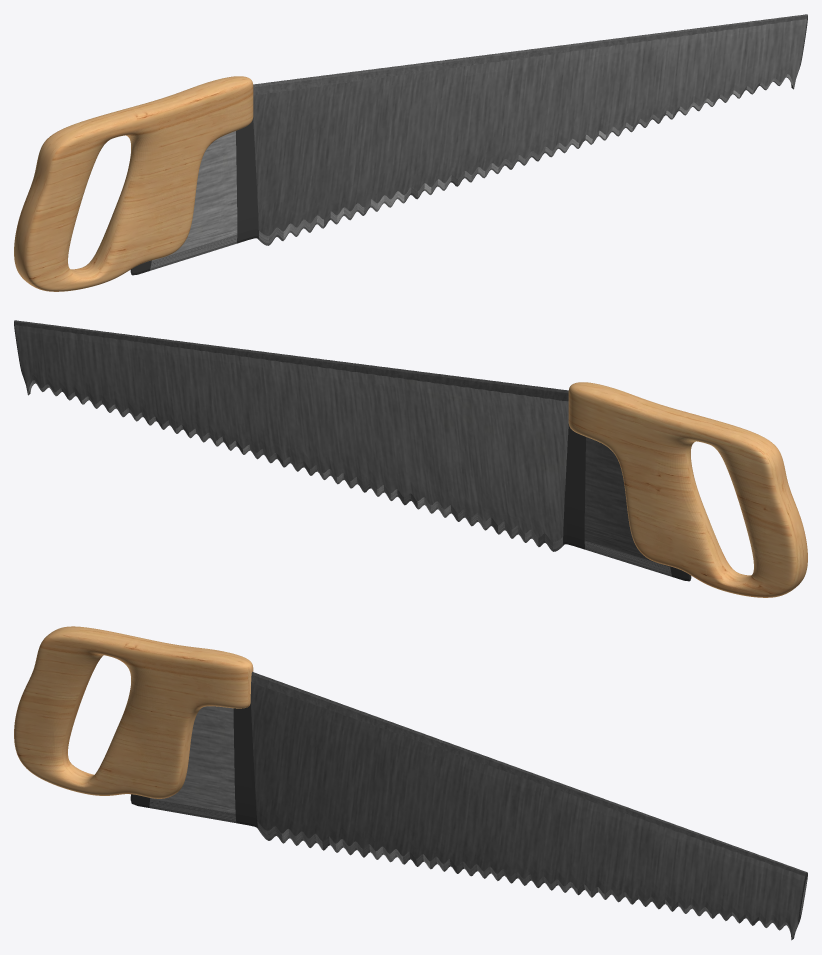
The model's file is Saw.fbx.
3 renders of one model, top to bottom at view 1: azimuth 30°, elevation 25°; view 2: azimuth 150°, elevation 25°; view 3: azimuth 330°, elevation 25°, orthographic.
Parts seen in each view (by area): view 1: Blade, Handle; view 2: Blade, Handle; view 3: Blade, Handle.
Part boxes in pixels (left/top/right/bottom): Blade: left=130, top=14, right=807, bottom=275; Handle: left=14, top=76, right=253, bottom=291; Blade: left=14, top=320, right=691, bottom=581; Handle: left=568, top=382, right=807, bottom=597; Blade: left=130, top=671, right=807, bottom=940; Handle: left=14, top=626, right=253, bottom=798.
Size of the model in its own units: 9.19 by 1.95 by 0.3.
Materials: 2 (2 with a texture image).
